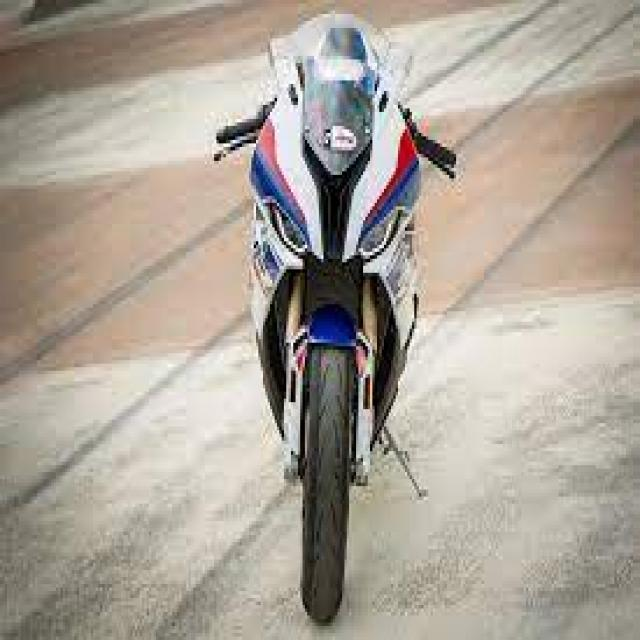Bike: (213, 16, 459, 626)
